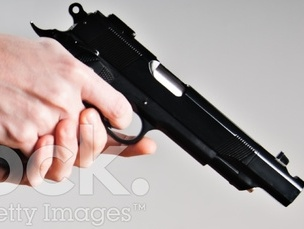pistol: (3, 1, 304, 216)
